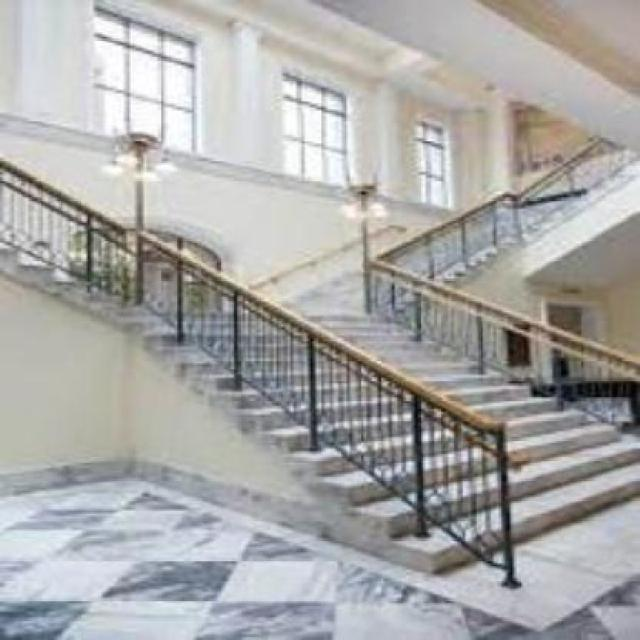stair: (127, 294, 640, 579)
